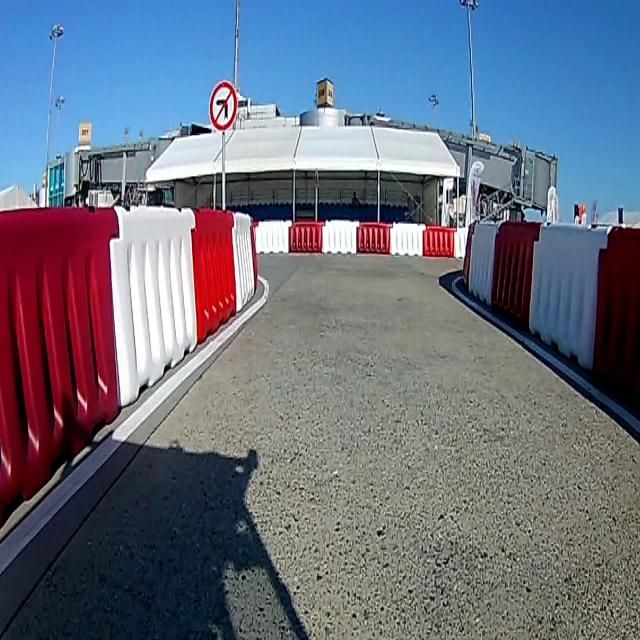soladonulmez: (207, 83, 236, 129)
